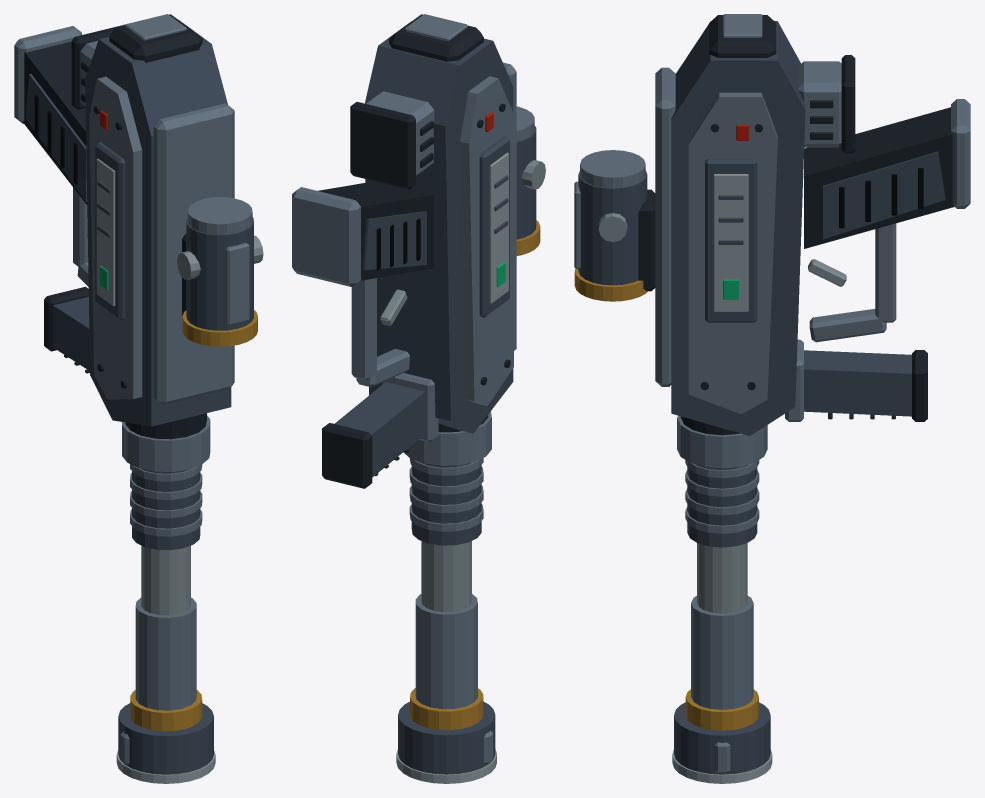
File: beam_rifle.obj
The picture shows the model from 3 angles, left to right: view 1: azimuth 30°, elevation 25°; view 2: azimuth 150°, elevation 25°; view 3: azimuth 270°, elevation 25°; orthographic projection.
Visible parts, largest first — view 1: Top_cover, Receiver_core, R_receiver_armor, Forward_barrel_sleeve, Sensor_housing, Emitter_housing, Main_grip, Barrel_shaft, Rear_barrel_sleeve, Barrel_collar, Main_grip_side_R, R_inset_frame (+19 smaller); view 2: Receiver_core, R_receiver_armor, Forward_barrel_sleeve, Grip_heel, Energy_unit_bottom, Emitter_housing, Forward_handle, Main_grip, Rear_barrel_sleeve, Barrel_shaft, Forward_handle_heel, Main_grip_side_R (+21 smaller); view 3: Receiver_core, L_receiver_armor, Main_grip, Forward_handle, Forward_barrel_sleeve, Top_cover, Main_grip_side_L, Sensor_housing, L_energy_panel, Emitter_housing, L_inset_frame, Rear_barrel_sleeve (+20 smaller).
Part boxes in pixels (x1,y1,x2,y2): Top_cover: (153, 103, 234, 405); Receiver_core: (85, 19, 231, 426); R_receiver_armor: (89, 76, 142, 399); Forward_barrel_sleeve: (135, 597, 196, 710); Sensor_housing: (186, 217, 253, 330); Emitter_housing: (118, 703, 213, 774); Main_grip: (23, 41, 87, 204); Barrel_shaft: (141, 545, 190, 615); Rear_barrel_sleeve: (132, 468, 200, 550); Barrel_collar: (122, 415, 210, 471); Main_grip_side_R: (25, 74, 87, 201); R_inset_frame: (95, 142, 125, 320); Receiver_core: (365, 21, 513, 433); R_receiver_armor: (460, 76, 513, 405); Forward_barrel_sleeve: (415, 594, 477, 709); Grip_heel: (292, 187, 360, 286); Energy_unit_bottom: (350, 102, 415, 189); Emitter_housing: (398, 701, 495, 774); Forward_handle: (334, 382, 425, 477); Main_grip: (318, 181, 434, 280); Rear_barrel_sleeve: (411, 461, 481, 545); Barrel_shaft: (421, 541, 471, 612); Forward_handle_heel: (322, 423, 372, 488); Main_grip_side_R: (363, 211, 426, 270); Receiver_core: (671, 21, 805, 435); L_receiver_armor: (688, 92, 777, 414); Main_grip: (804, 107, 954, 248); Forward_handle: (804, 350, 911, 416); Forward_barrel_sleeve: (691, 596, 753, 709); Top_cover: (655, 67, 675, 386); Main_grip_side_L: (823, 151, 945, 239); Sensor_housing: (578, 170, 647, 285); L_energy_panel: (713, 174, 748, 311); Emitter_housing: (674, 702, 770, 774); L_inset_frame: (705, 158, 757, 322); Rear_barrel_sleeve: (687, 464, 757, 547).
Bounding box in the file's own units: 0.1884 × 1.12 × 0.5435.
